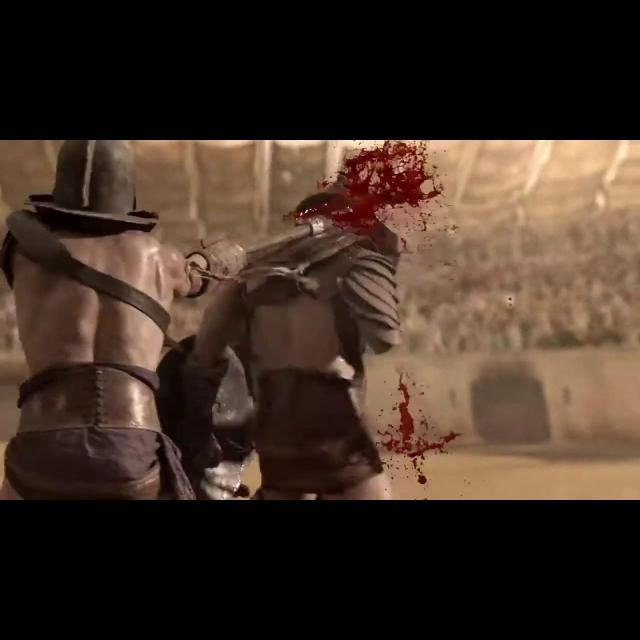blood: (294, 140, 443, 228), (377, 368, 460, 490)
